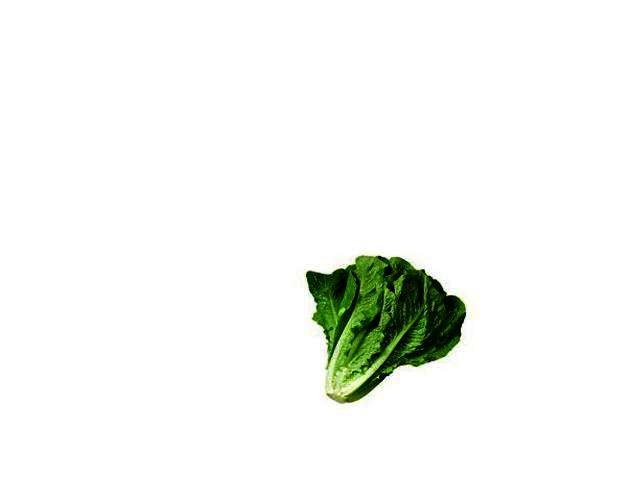lettuce: (305, 253, 448, 406)
